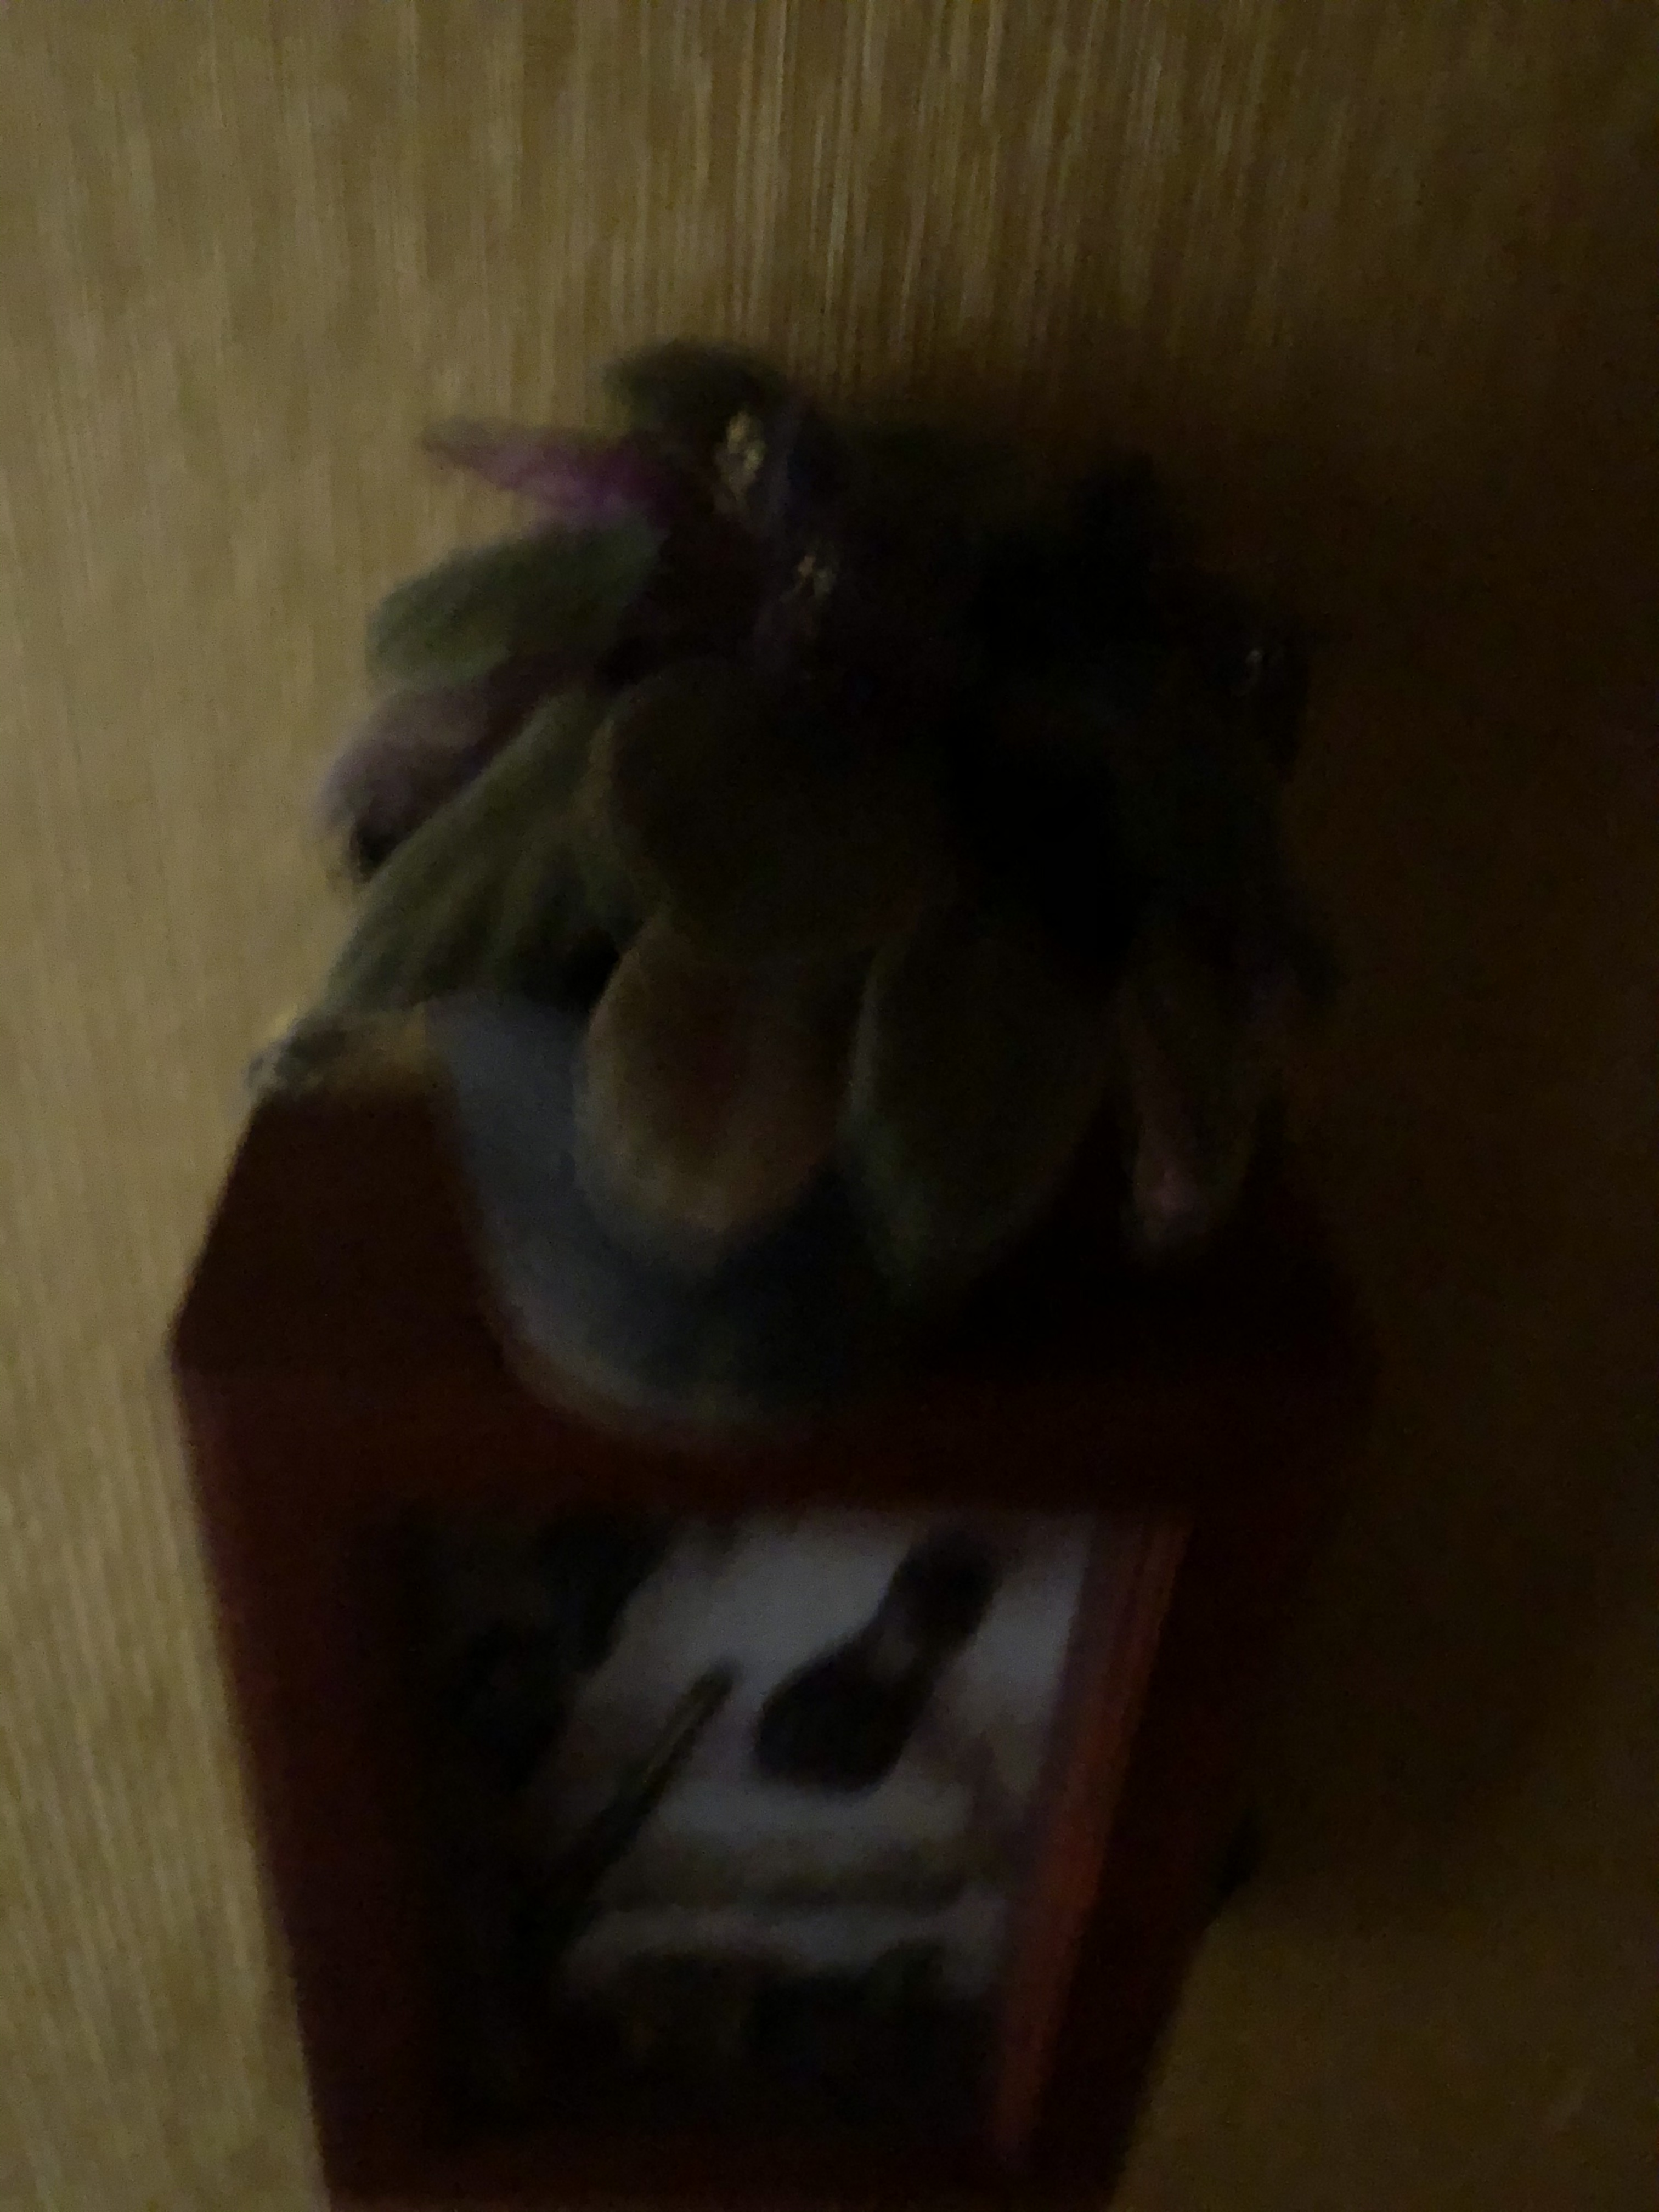ignore: (274, 310, 1410, 1292)
